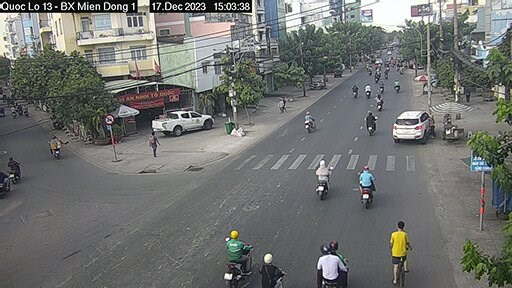car: (390, 97, 434, 142), (152, 108, 212, 139)
motorbike: (217, 224, 275, 281), (314, 238, 351, 287), (243, 249, 286, 284), (352, 160, 382, 208), (306, 163, 338, 202), (301, 111, 316, 132), (365, 113, 376, 132)
